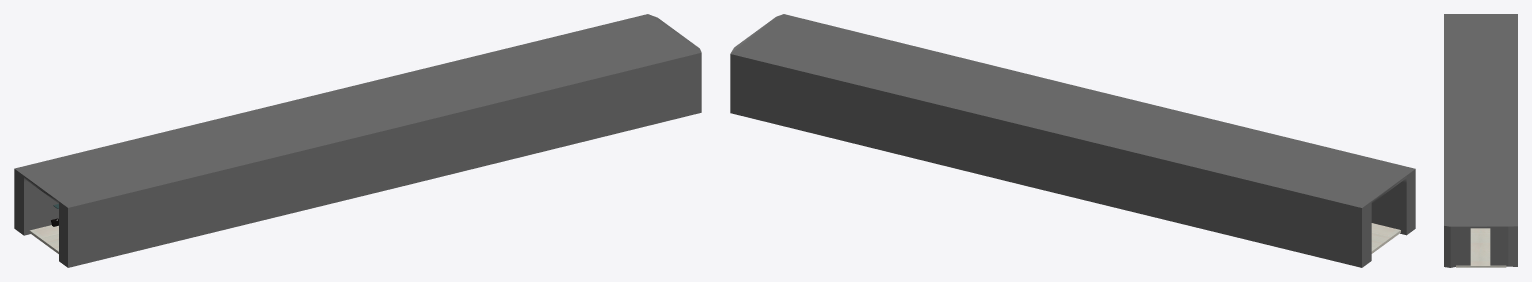
File: hallway.fbx
3 renders of one model, left to right at view 1: azimuth 30°, elevation 25°; view 2: azimuth 150°, elevation 25°; view 3: azimuth 270°, elevation 25°, orthographic. The views are drawn at different scales.
Parts seen in each view (by area): view 1: hallway, floor; view 2: hallway, floor; view 3: hallway, floor.
Part boxes in pixels (<box>): hallway: <box>14,14,701,267</box>; floor: <box>29,225,58,253</box>; hallway: <box>730,14,1415,267</box>; floor: <box>1371,223,1400,253</box>; hallway: <box>1444,14,1517,267</box>; floor: <box>1456,228,1506,267</box>.
Size of the model in its own units: 1301 by 118 by 190.
Materials: 12 (5 with a texture image).
